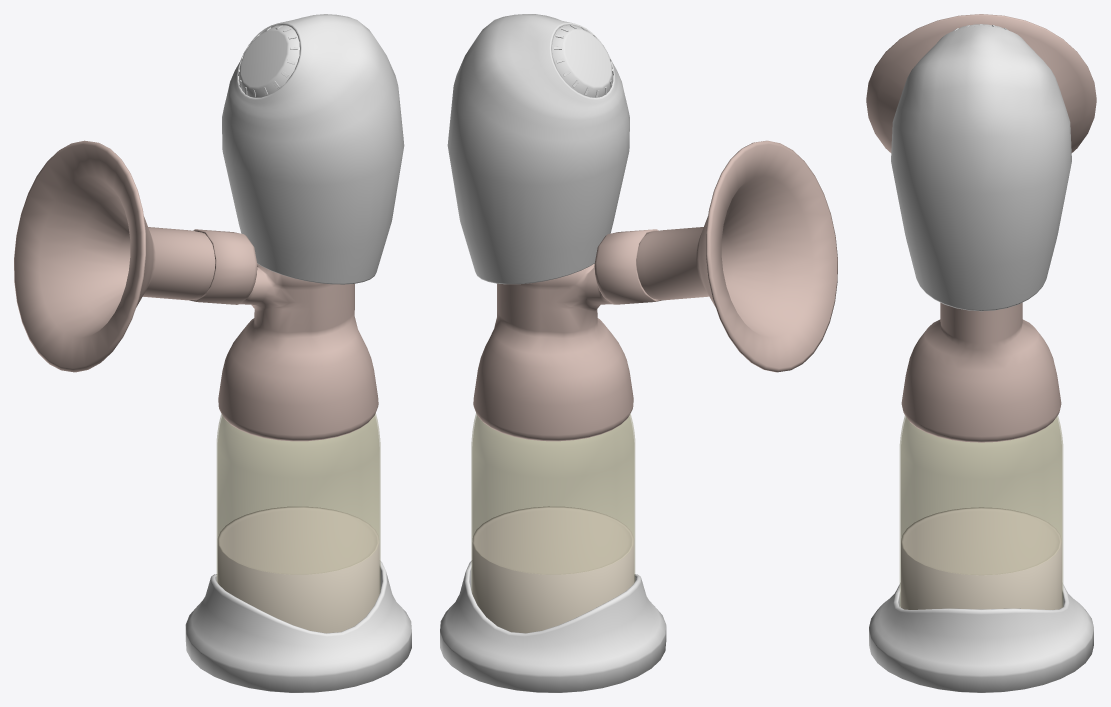
Rendered from handyfit.glb.
The picture shows the model from 3 angles, left to right: view 1: azimuth 30°, elevation 25°; view 2: azimuth 150°, elevation 25°; view 3: azimuth 270°, elevation 25°; orthographic projection.
Visible parts, largest first — view 1: Bin; view 2: Bin; view 3: Bin.
Boxes of the visible parts, <box> form: Bin: <box>14,14,411,692</box>; Bin: <box>440,14,837,692</box>; Bin: <box>866,14,1096,692</box>.
Size of the model in its own units: 0.2041 by 0.3502 by 0.1179.
